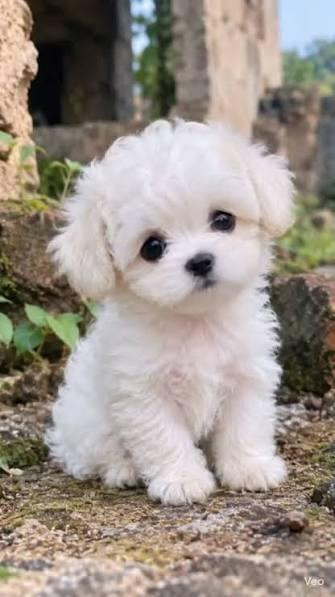puppy-dog: (44, 117, 299, 507)
